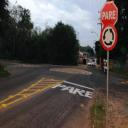Pare: (100, 1, 118, 27)
Rotatoria: (100, 23, 118, 51)
